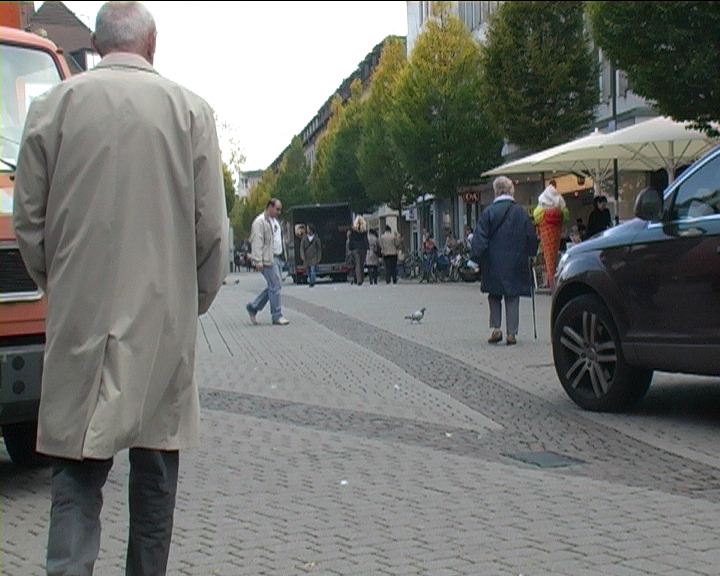undeflect: (40, 8, 210, 158)
